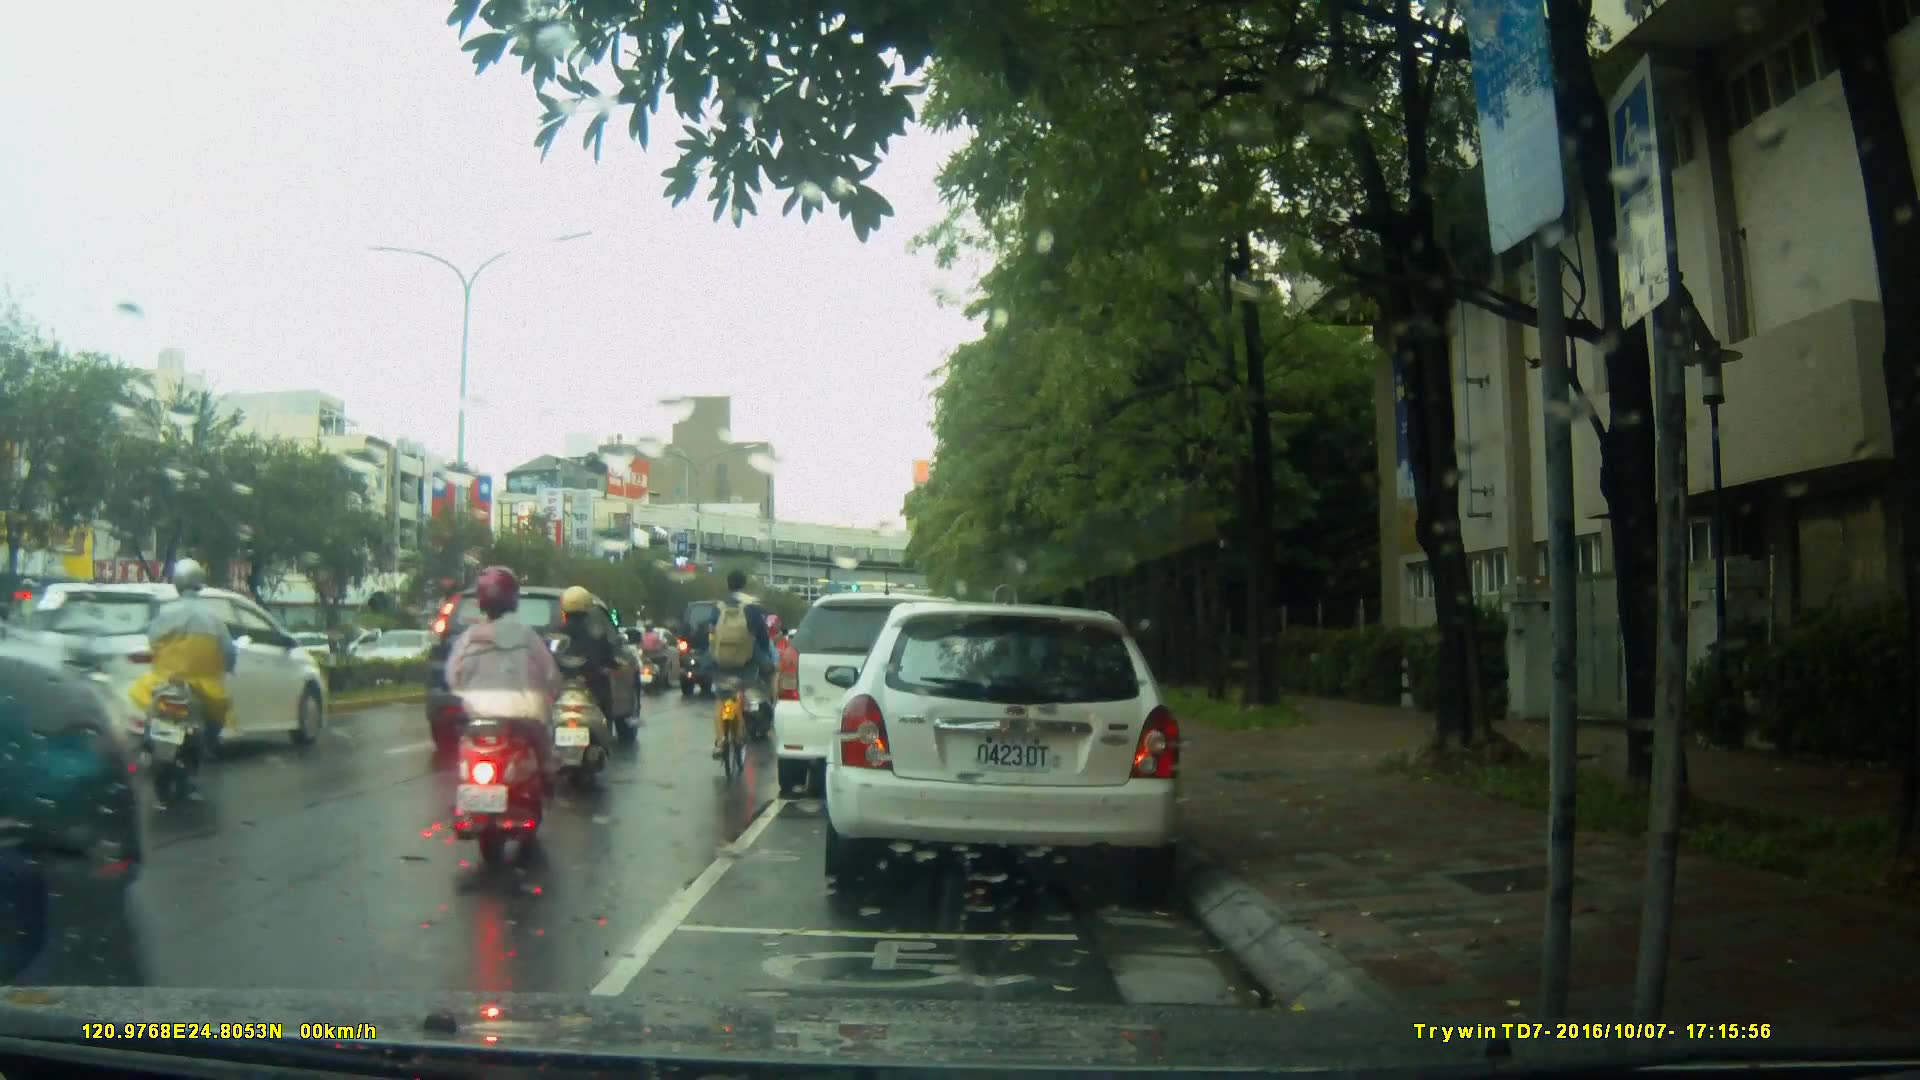rider: (433, 563, 569, 860), (134, 552, 253, 812), (707, 572, 774, 787), (543, 586, 616, 784), (751, 609, 803, 724), (636, 616, 668, 699)
vehicle: (822, 604, 1188, 883), (27, 582, 320, 755), (48, 578, 343, 750), (774, 595, 995, 802), (415, 586, 645, 770)
